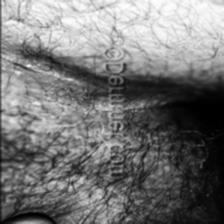Toxin: (0, 44, 172, 130)
